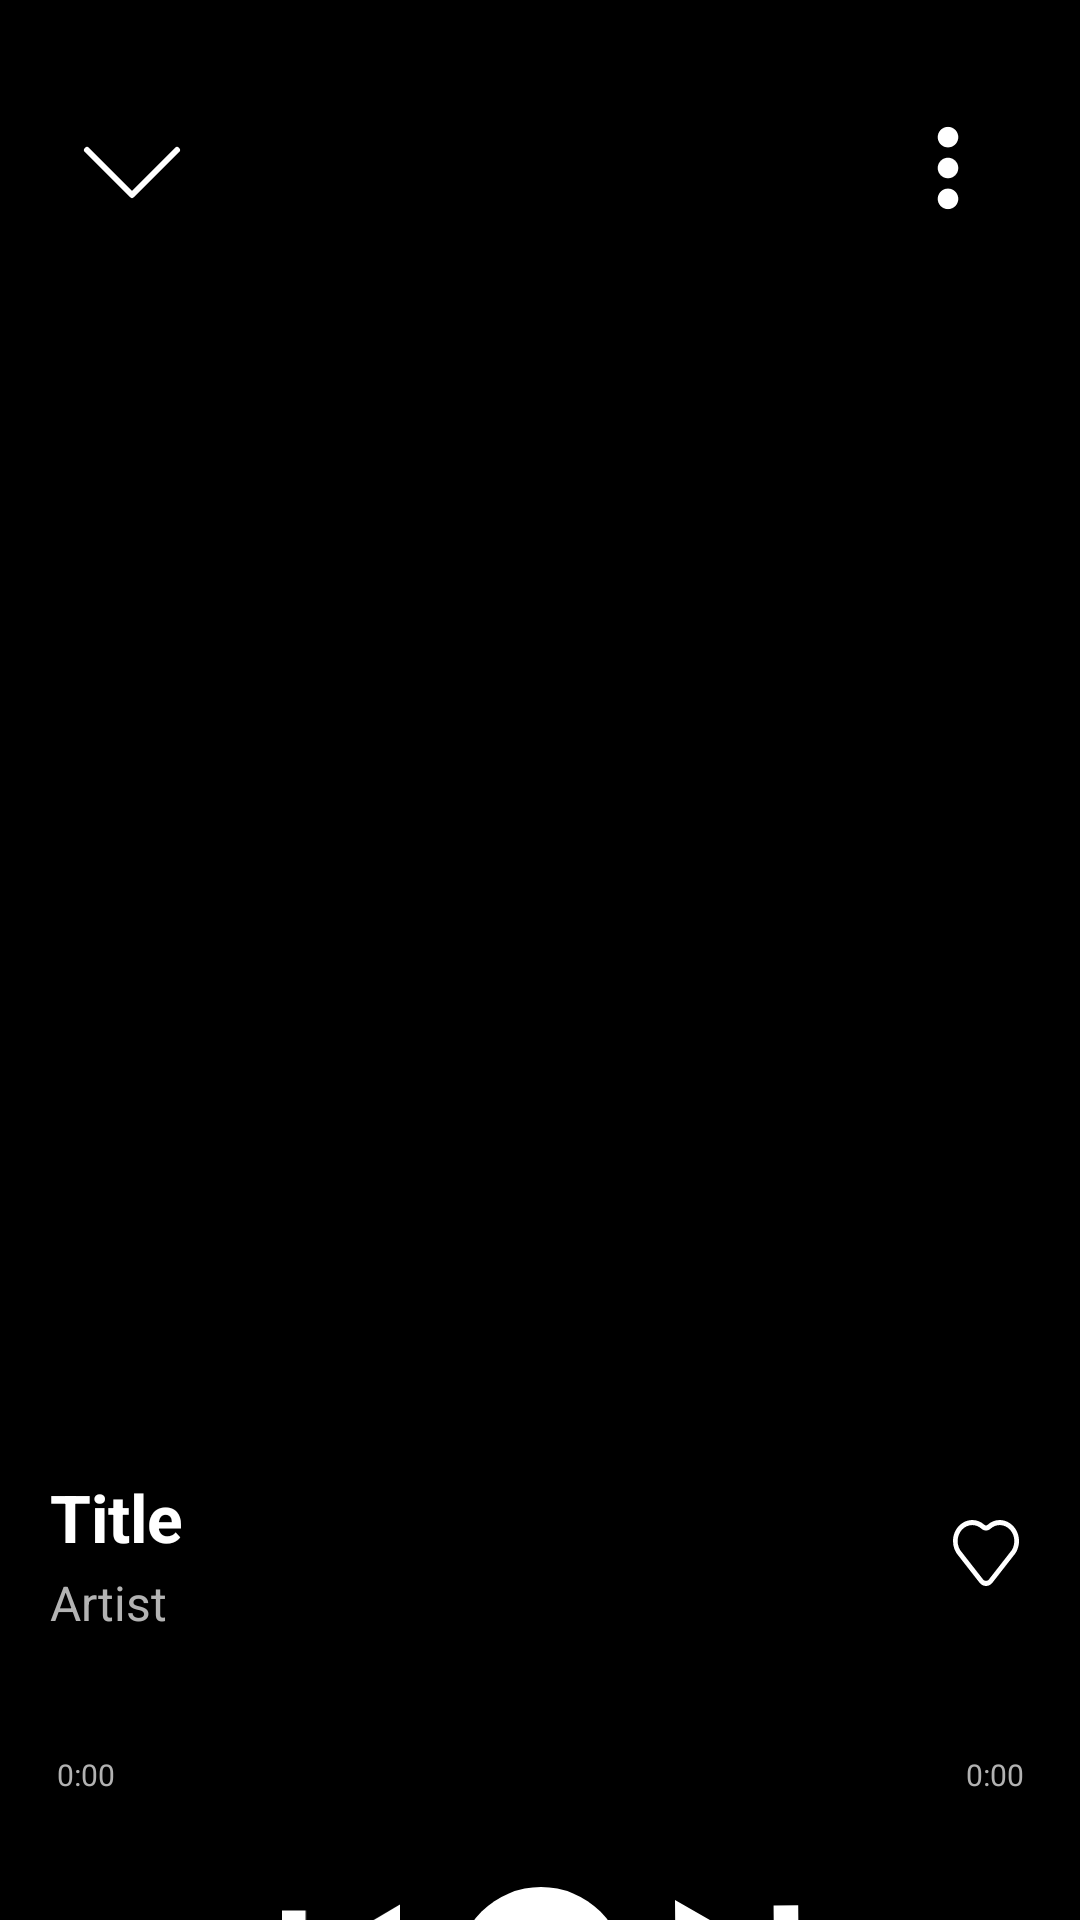

Locate icon controls on the screen. Image size 1080*1920, boxes as (x1, y1, x2, y2).
caret: (84, 146, 180, 198)
Like button: (953, 1520, 1019, 1586)
more: (937, 127, 959, 209)
